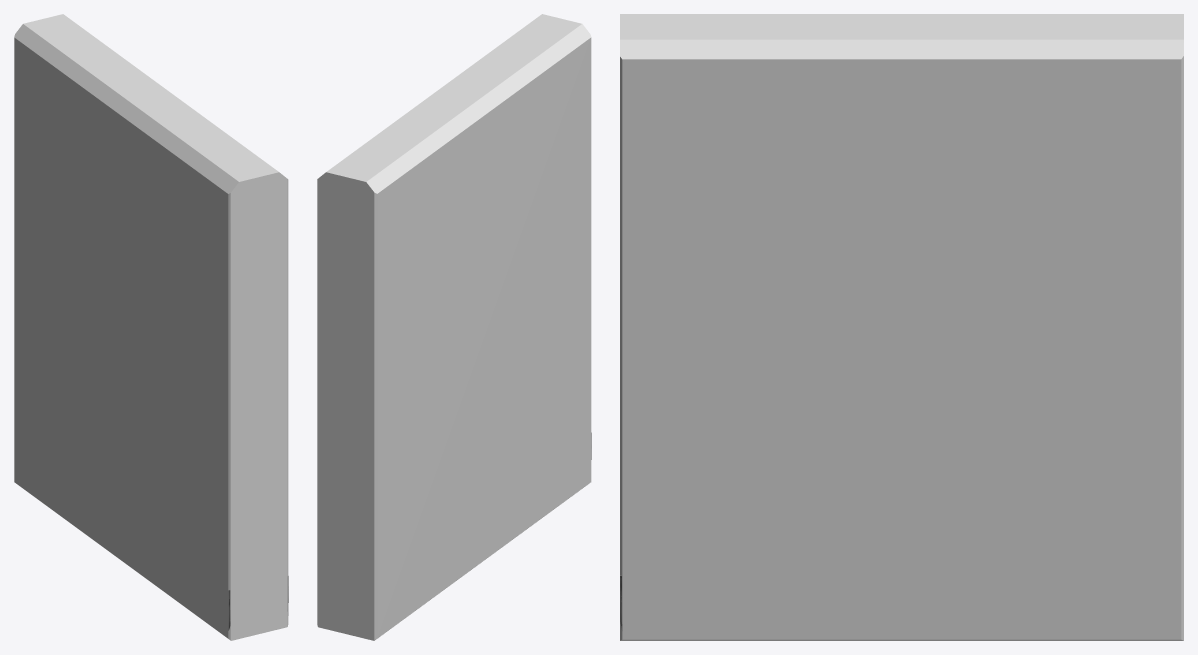
File: SM_small_temple_02_wall_02.fbx
The picture shows the model from 3 angles, left to right: view 1: azimuth 30°, elevation 25°; view 2: azimuth 150°, elevation 25°; view 3: azimuth 270°, elevation 25°; orthographic projection. The views are drawn at different scales.
Visible parts, largest first — view 1: SM_small_temple_02_wall_02_ConvexHulls; view 2: SM_small_temple_02_wall_02_ConvexHulls; view 3: SM_small_temple_02_wall_02_ConvexHulls.
Part boxes in pixels (box(x1,y1,x2,y2)): SM_small_temple_02_wall_02_ConvexHulls: box(14, 14, 288, 640); SM_small_temple_02_wall_02_ConvexHulls: box(317, 14, 591, 640); SM_small_temple_02_wall_02_ConvexHulls: box(620, 14, 1183, 640).
Size of the model in its own units: 96.23 by 600 by 700.
